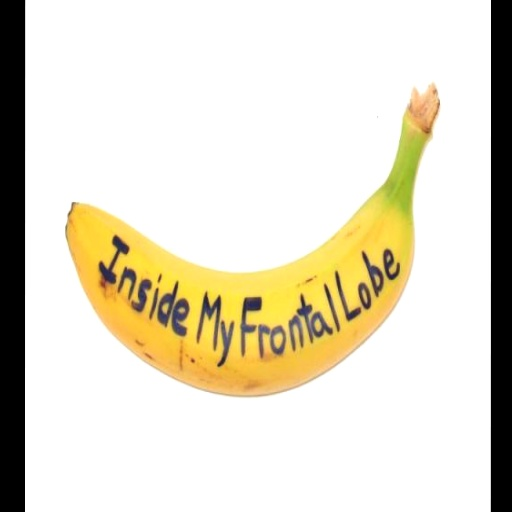fruit: (66, 85, 439, 395)
